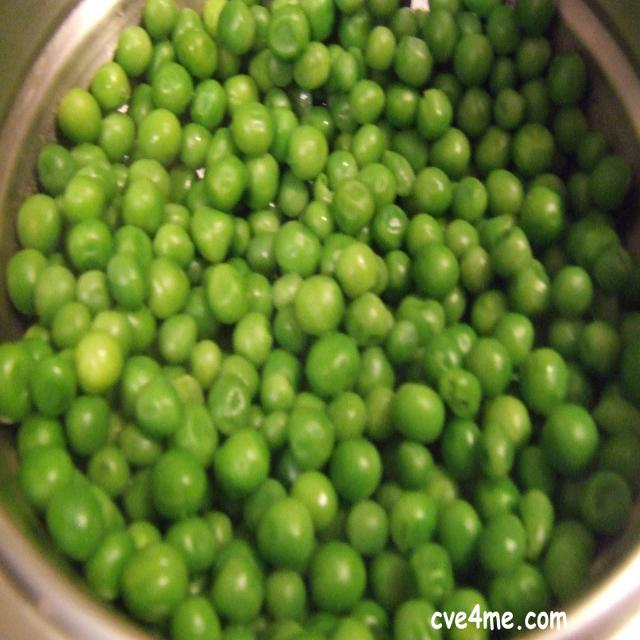pea: (52, 25, 586, 607)
